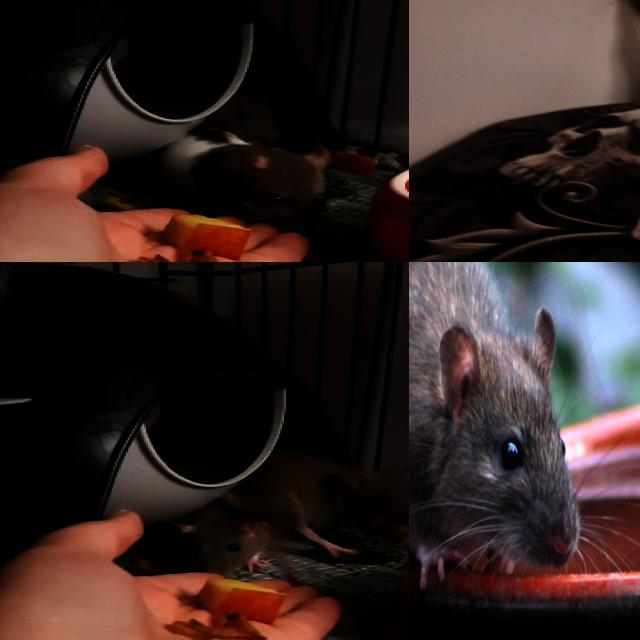rat: (409, 262, 580, 573), (140, 125, 333, 238), (228, 453, 409, 560), (171, 506, 268, 570), (187, 82, 286, 144)
